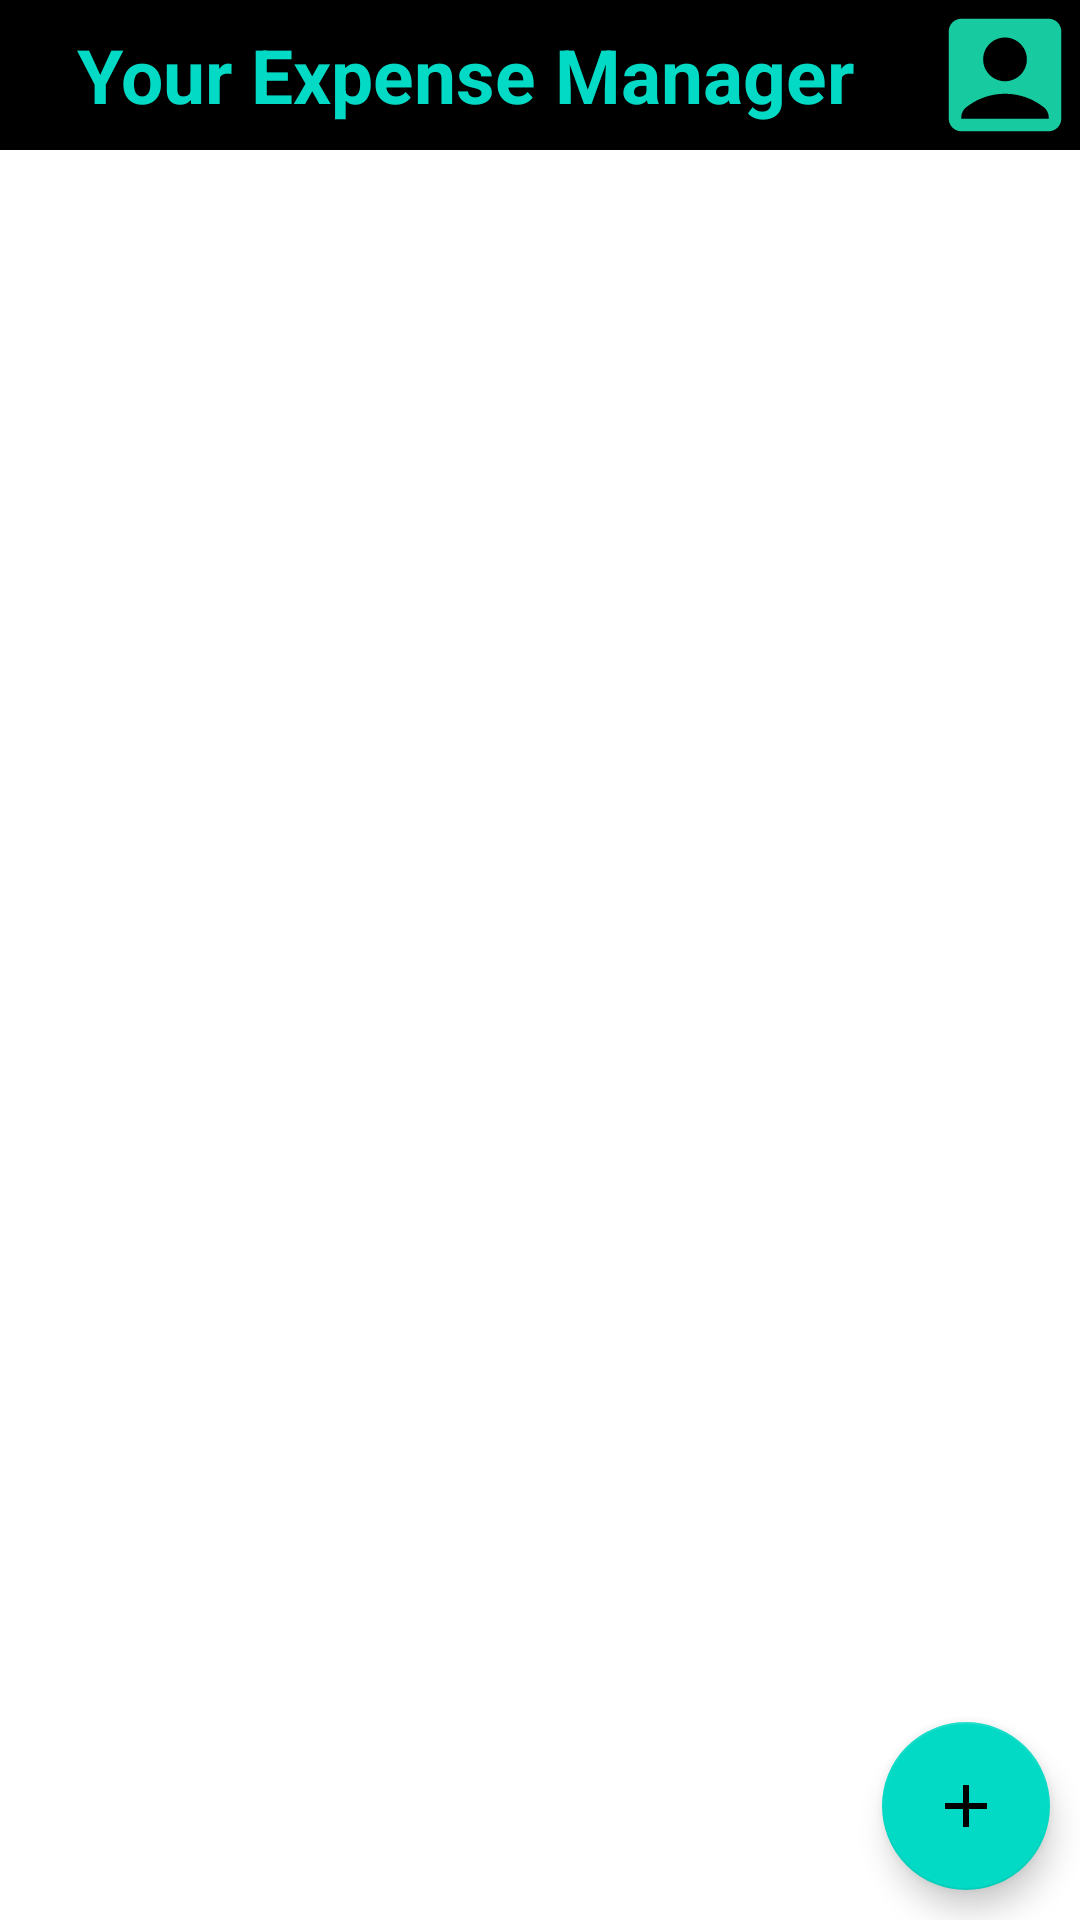

Screen size 1080px x 1920px. Icon name, then its box in pixels as BBox(x1, y1, x2, y2):
account box: BBox(948, 18, 1062, 132)
add: BBox(882, 1722, 1050, 1890)
